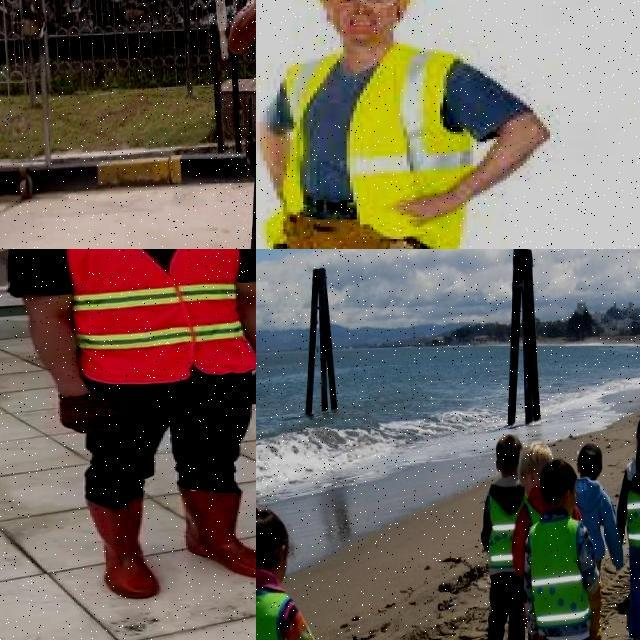boots: (86, 496, 162, 598), (177, 485, 256, 579)
vest: (265, 46, 475, 249), (67, 249, 255, 382), (530, 512, 588, 632), (480, 481, 524, 569), (627, 457, 640, 543)
